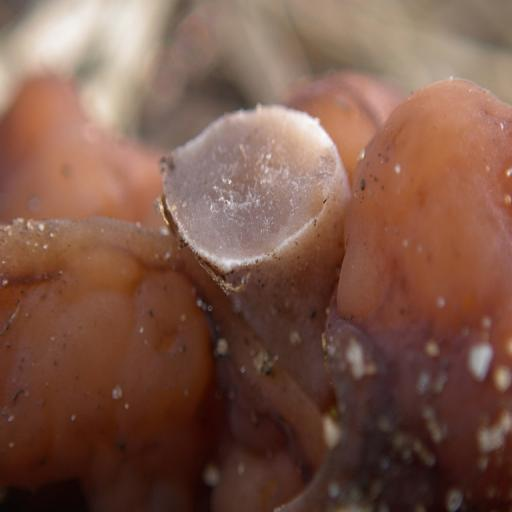False Morel: (0, 76, 512, 511)
